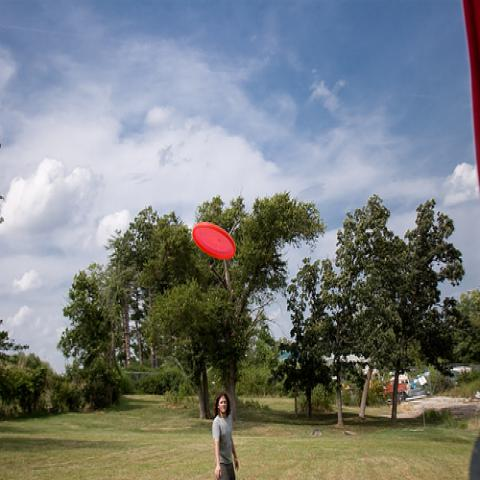truck: (383, 374, 411, 399)
